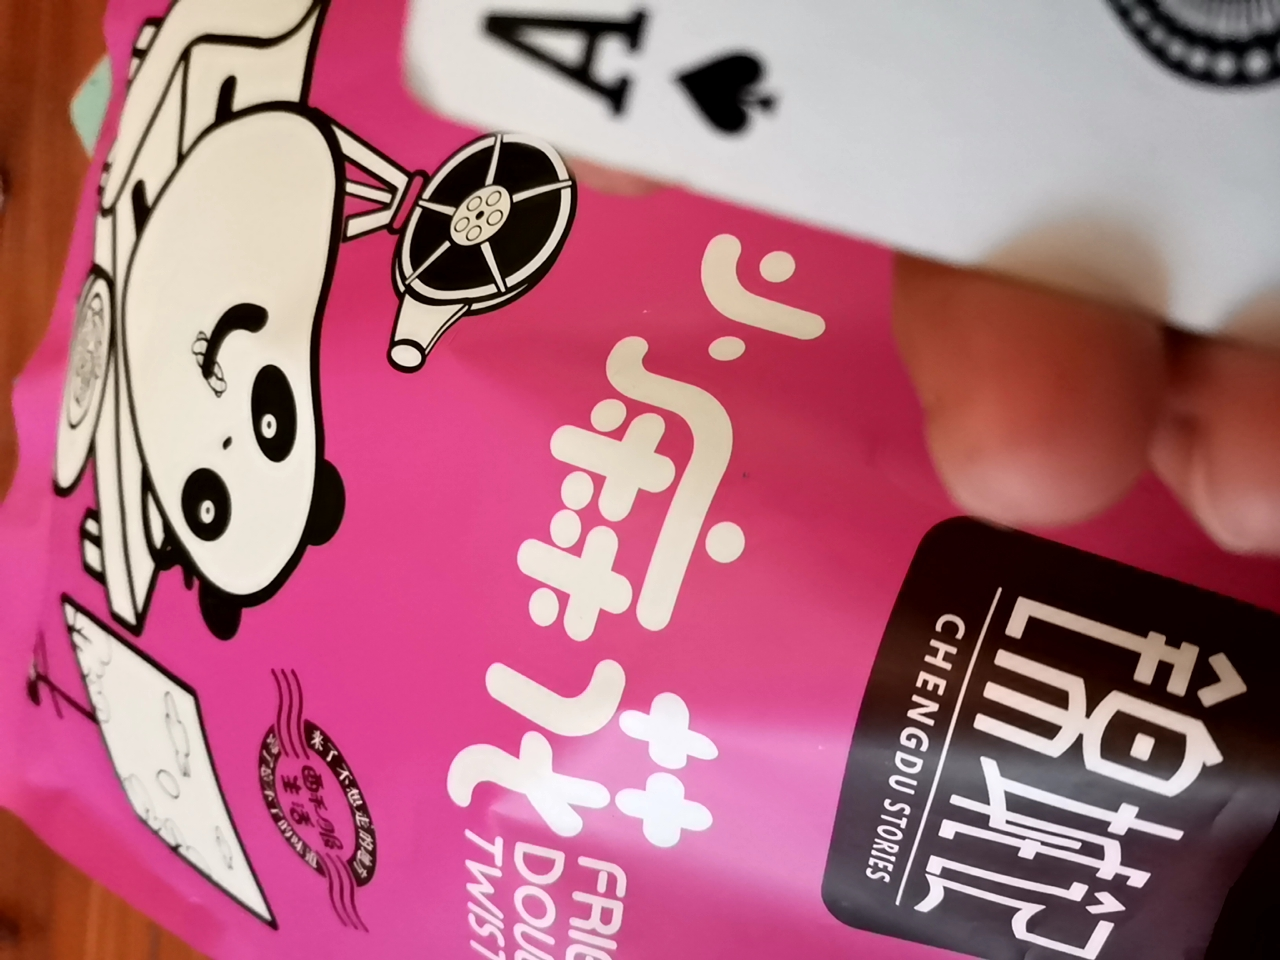ht a: (238, 0, 1280, 404)
